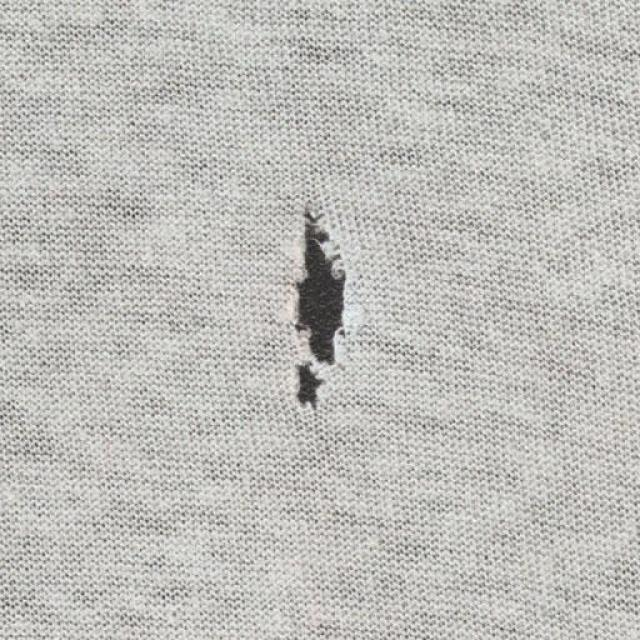cut: (286, 203, 353, 419)
